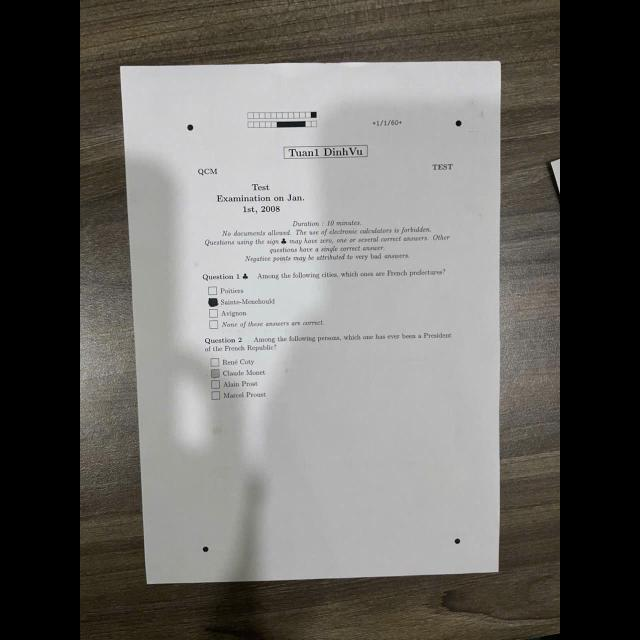Markers: (187, 124, 193, 130), (455, 120, 461, 126), (454, 538, 460, 544), (202, 546, 208, 552)
